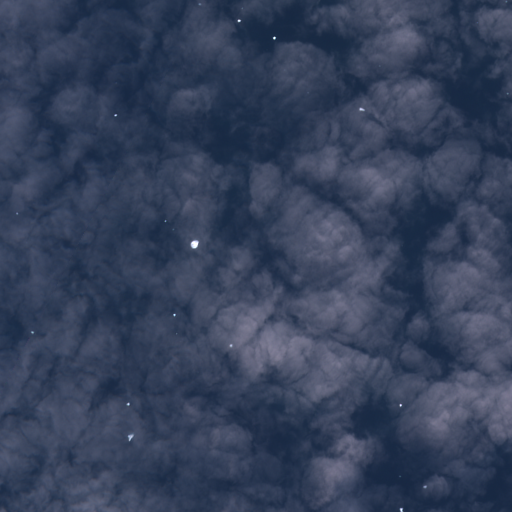Iceberg: (190, 240, 198, 248), (127, 433, 133, 441), (359, 107, 364, 111), (399, 507, 403, 511), (237, 19, 241, 22), (272, 36, 276, 39), (31, 331, 34, 334), (229, 344, 232, 347), (126, 402, 129, 405), (423, 485, 426, 488), (114, 114, 117, 116), (173, 313, 175, 316), (399, 403, 401, 406), (172, 228, 174, 230), (198, 3, 200, 4), (16, 212, 17, 214), (164, 220, 166, 221), (507, 93, 508, 94), (176, 333, 177, 334), (399, 475, 400, 476)
